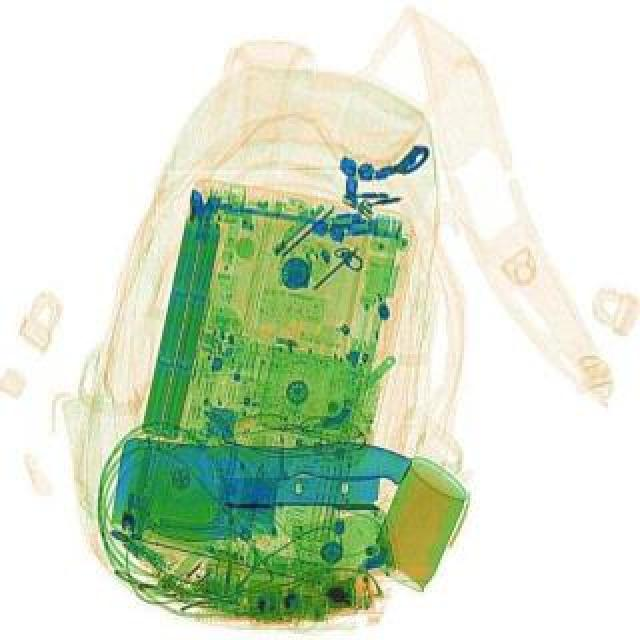knife: (106, 418, 412, 560)
